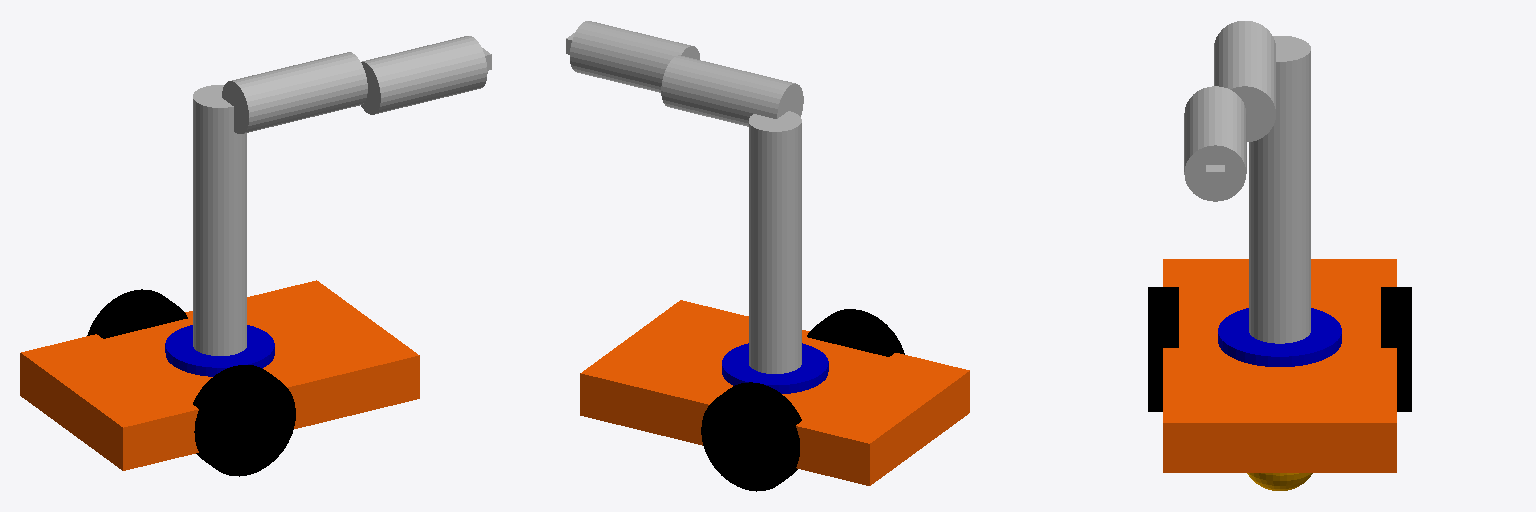
URDF robot description (iai_student_robot):
<?xml version="1.0" encoding="utf-8"?>
<!-- =================================================================================== -->
<!-- |    This document was autogenerated by xacro from iai_student_robot_knowrob.xacro | -->
<!-- |    EDITING THIS FILE BY HAND IS NOT RECOMMENDED                                 | -->
<!-- =================================================================================== -->
<robot name="iai_student_robot">
  <material name="black">
    <color rgba="0.0 0.0 0.0 1.0"/>
  </material>
  <material name="blue">
    <color rgba="0 0 0.8 1"/>
  </material>
  <material name="green">
    <color rgba="0.0 0.8 0.0 1.0"/>
  </material>
  <material name="grey">
    <color rgba="0.2 0.2 0.2 1.0"/>
  </material>
  <material name="orange">
    <color rgba="1.0 0.423529411765 0.0392156862745 1.0"/>
  </material>
  <material name="brown">
    <color rgba="0.870588235294 0.811764705882 0.764705882353 1.0"/>
  </material>
  <material name="red">
    <color rgba="0.80078125 0.12890625 0.1328125 1.0"/>
  </material>
  <material name="white">
    <color rgba="1.0 1.0 1.0 1.0"/>
  </material>
  <link name="base_link">
    <!-- chassis box -->
    <visual>
      <origin rpy="0 0 0" xyz="0 0 0"/>
      <geometry>
        <box size="0.5 0.3 0.07"/>
      </geometry>
      <material name="orange"/>
    </visual>
    <!-- caster front -->
    <visual name="caster_front_visual">
      <origin rpy=" 0 0 0" xyz="0.2 0 -0.03"/>
      <geometry>
        <sphere radius="0.05"/>
      </geometry>
    </visual>
  </link>
  <link name="right_wheel_link">
    <visual>
      <origin rpy="0 1.5707 1.5707" xyz="0 0 0"/>
      <geometry>
        <cylinder length="0.04" radius="0.08"/>
      </geometry>
      <material name="black"/>
    </visual>
  </link>
  <joint name="right_wheel_joint" type="continuous">
    <origin rpy="0 0 0" xyz="-0.05 0.15 0"/>
    <child link="right_wheel_link"/>
    <parent link="base_link"/>
    <axis rpy="0 0 0" xyz="0 1 0"/>
    <limit effort="10000" velocity="10"/>
    <joint_properties damping="1.0" friction="1.0"/>
  </joint>
  <link name="left_wheel_link">
    <visual>
      <origin rpy="0 1.5707 1.5707" xyz="0 0 0"/>
      <geometry>
        <cylinder length="0.04" radius="0.08"/>
      </geometry>
      <material name="black"/>
    </visual>
  </link>
  <joint name="left_wheel_joint" type="continuous">
    <origin rpy="0 0 0" xyz="-0.05 -0.15 0"/>
    <child link="left_wheel_link"/>
    <parent link="base_link"/>
    <axis rpy="0 0 0" xyz="0 1 0"/>
    <limit effort="10000" velocity="10"/>
    <joint_properties damping="1.0" friction="1.0"/>
  </joint>
  <link name="platform_link">
    <visual>
      <origin rpy="0 0 0" xyz="0 0 0.025"/>
      <geometry>
        <cylinder length="0.05" radius="0.08"/>
      </geometry>
      <material name="blue"/>
    </visual>
  </link>
  <joint name="platform_joint" type="fixed">
    <origin rpy="0 0 0" xyz="0 0 0"/>
    <child link="platform_link"/>
    <parent link="base_link"/>
  </joint>
  <link name="torso">
    <visual>
      <geometry>
        <cylinder length="0.4" radius="0.04"/>
      </geometry>
      <material name="silver">
        <color rgba="0.75 0.75 0.75 1"/>
      </material>
      <origin rpy="0 0 0" xyz="0 0 0.25"/>
    </visual>
  </link>
  <joint name="hip" type="continuous">
    <axis xyz="0 0 1"/>
    <parent link="platform_link"/>
    <child link="torso"/>
    <origin rpy="0 0 0" xyz="0.0 0.0 0.000"/>
  </joint>
  <link name="upper_arm">
    <visual>
      <geometry>
        <cylinder length="0.2" radius="0.04"/>
      </geometry>
      <material name="silver"/>
      <origin rpy="0 0 0" xyz="0 0 0.1"/>
    </visual>
  </link>
  <joint name="shoulder" type="continuous">
    <axis xyz="0 1 0"/>
    <parent link="torso"/>
    <child link="upper_arm"/>
    <origin rpy="0 1.5708 0" xyz="0.0 -0.045 0.45"/>
  </joint>
  <link name="lower_arm">
    <visual>
      <geometry>
        <cylinder length="0.18" radius="0.04"/>
      </geometry>
      <material name="silver"/>
      <origin rpy="0 0 0" xyz="0.0 0.0 0.1"/>
    </visual>
  </link>
  <joint name="elbow" type="continuous">
    <axis xyz="0 1 0"/>
    <parent link="upper_arm"/>
    <child link="lower_arm"/>
    <origin rpy="0 0 0" xyz="0.0 -0.038 0.19"/>
  </joint>
  <link name="hand">
    <visual>
      <geometry>
        <box size="0.025 0.025 0.025"/>
      </geometry>
      <material name="silver"/>
    </visual>
  </link>
  <joint name="wrist" type="continuous">
    <axis xyz="0 1 0"/>
    <parent link="lower_arm"/>
    <child link="hand"/>
    <origin rpy="0 0 0" xyz="0.0 0.0 0.2"/>
  </joint>
</robot>

--- What the picture shows (computed from the rendered views, not written in the file) ---
3 views of the same robot in one strip: view 1: azimuth 30°, elevation 25°; view 2: azimuth 150°, elevation 25°; view 3: azimuth 270°, elevation 25° (orthographic).
Robot: iai_student_robot — 8 links, 7 joints (6 continuous, 1 fixed); root link base_link; default pose: all joints at 0.
Links seen in each view (by area): view 1: base_link, torso, left_wheel_link, upper_arm, lower_arm, platform_link, right_wheel_link; view 2: base_link, torso, right_wheel_link, upper_arm, lower_arm, platform_link, left_wheel_link; view 3: base_link, torso, lower_arm, upper_arm, platform_link, right_wheel_link, left_wheel_link.
Boxes of the visible links, x1,y1,x2,y2 form: base_link: (20,280,419,470); torso: (193,85,246,355); left_wheel_link: (193,365,295,476); upper_arm: (222,52,367,133); lower_arm: (361,36,487,114); platform_link: (165,325,274,376); right_wheel_link: (87,289,187,338); base_link: (580,300,969,485); torso: (749,111,801,373); right_wheel_link: (701,382,801,491); upper_arm: (661,55,803,126); lower_arm: (570,21,699,92); platform_link: (722,343,828,393); left_wheel_link: (807,309,904,356); base_link: (1163,259,1396,490); torso: (1249,36,1310,343); lower_arm: (1184,86,1246,201); upper_arm: (1214,21,1275,141); platform_link: (1218,308,1341,366); right_wheel_link: (1381,287,1411,411); left_wheel_link: (1148,287,1178,411).
Size in the robot's own frame: 0.6525 by 0.34 by 0.57 metres.
Geometry: primitives only (box / cylinder / sphere), no mesh files.